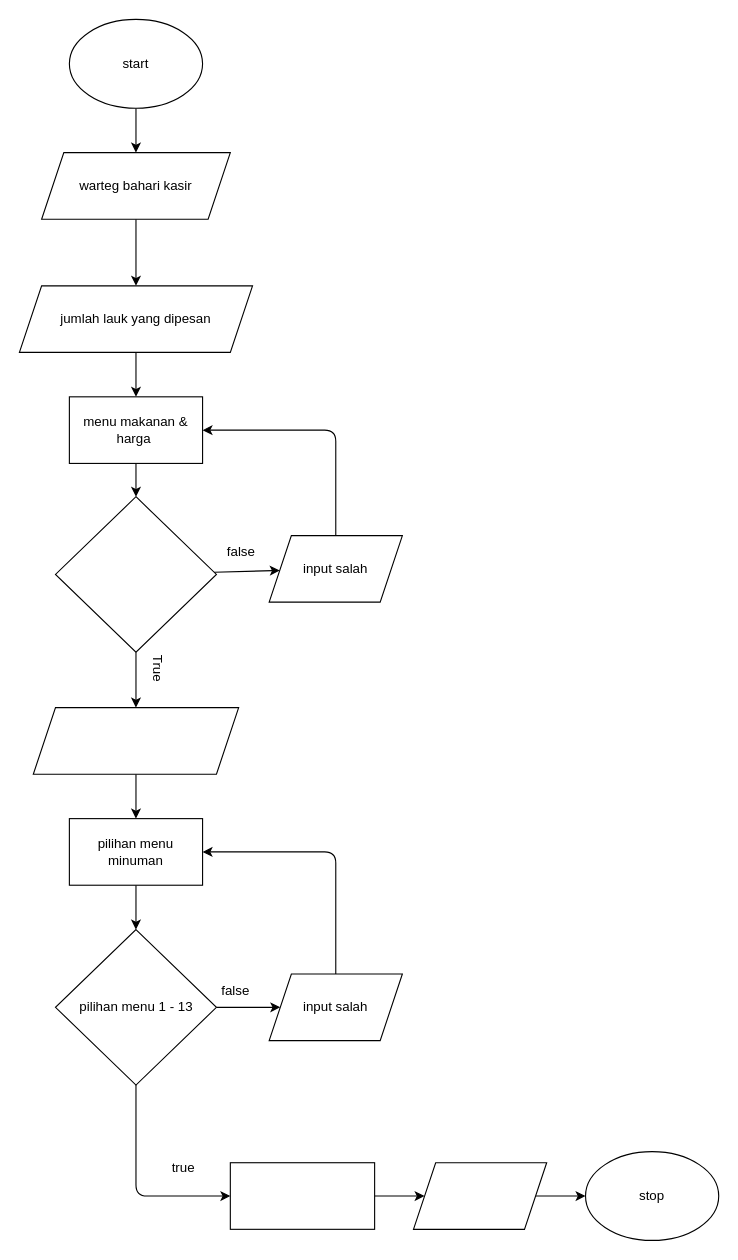
The diagram is 738 pixels wide and 1260 high, and some of its shapes have lost their labels. Here are the shapes that lost their labels. From the top down, the centre of each, then its label:
the point at 135,574: pilihan menu 1 - 11
the point at 135,740: jumlah minuman yang di pesan
the point at 302,1195: harga makanan + harga minuman
the point at 479,1195: total
